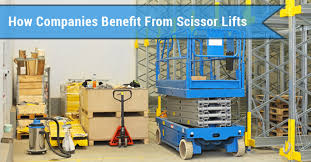Pallet Jack: (79, 87, 149, 148)
Scissor Lift: (155, 27, 247, 160)
